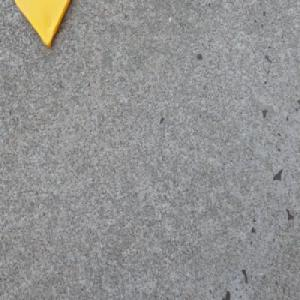PlasticPart: (13, 0, 74, 51)
